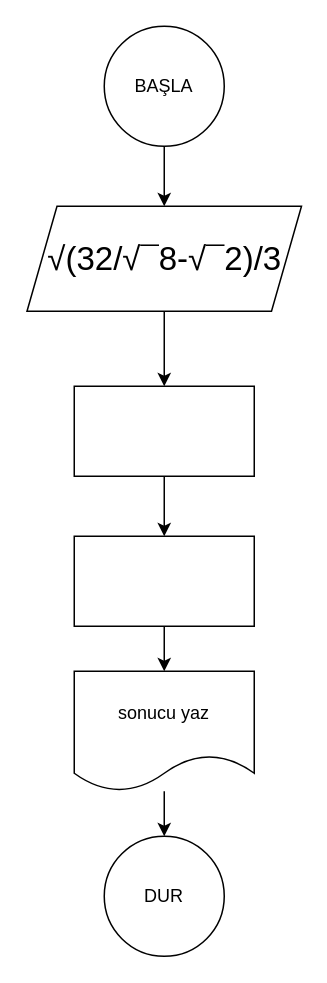
Some shapes in this 327 by 983 pixel diagram are drawn without their labels. Here are the shapes that lost their labels. From the top down, the centre of each, then its label:
At (163,430): "kökleri eşitle,aynı dereceye getir".
At (163,580): "sadeleştirme yap".
